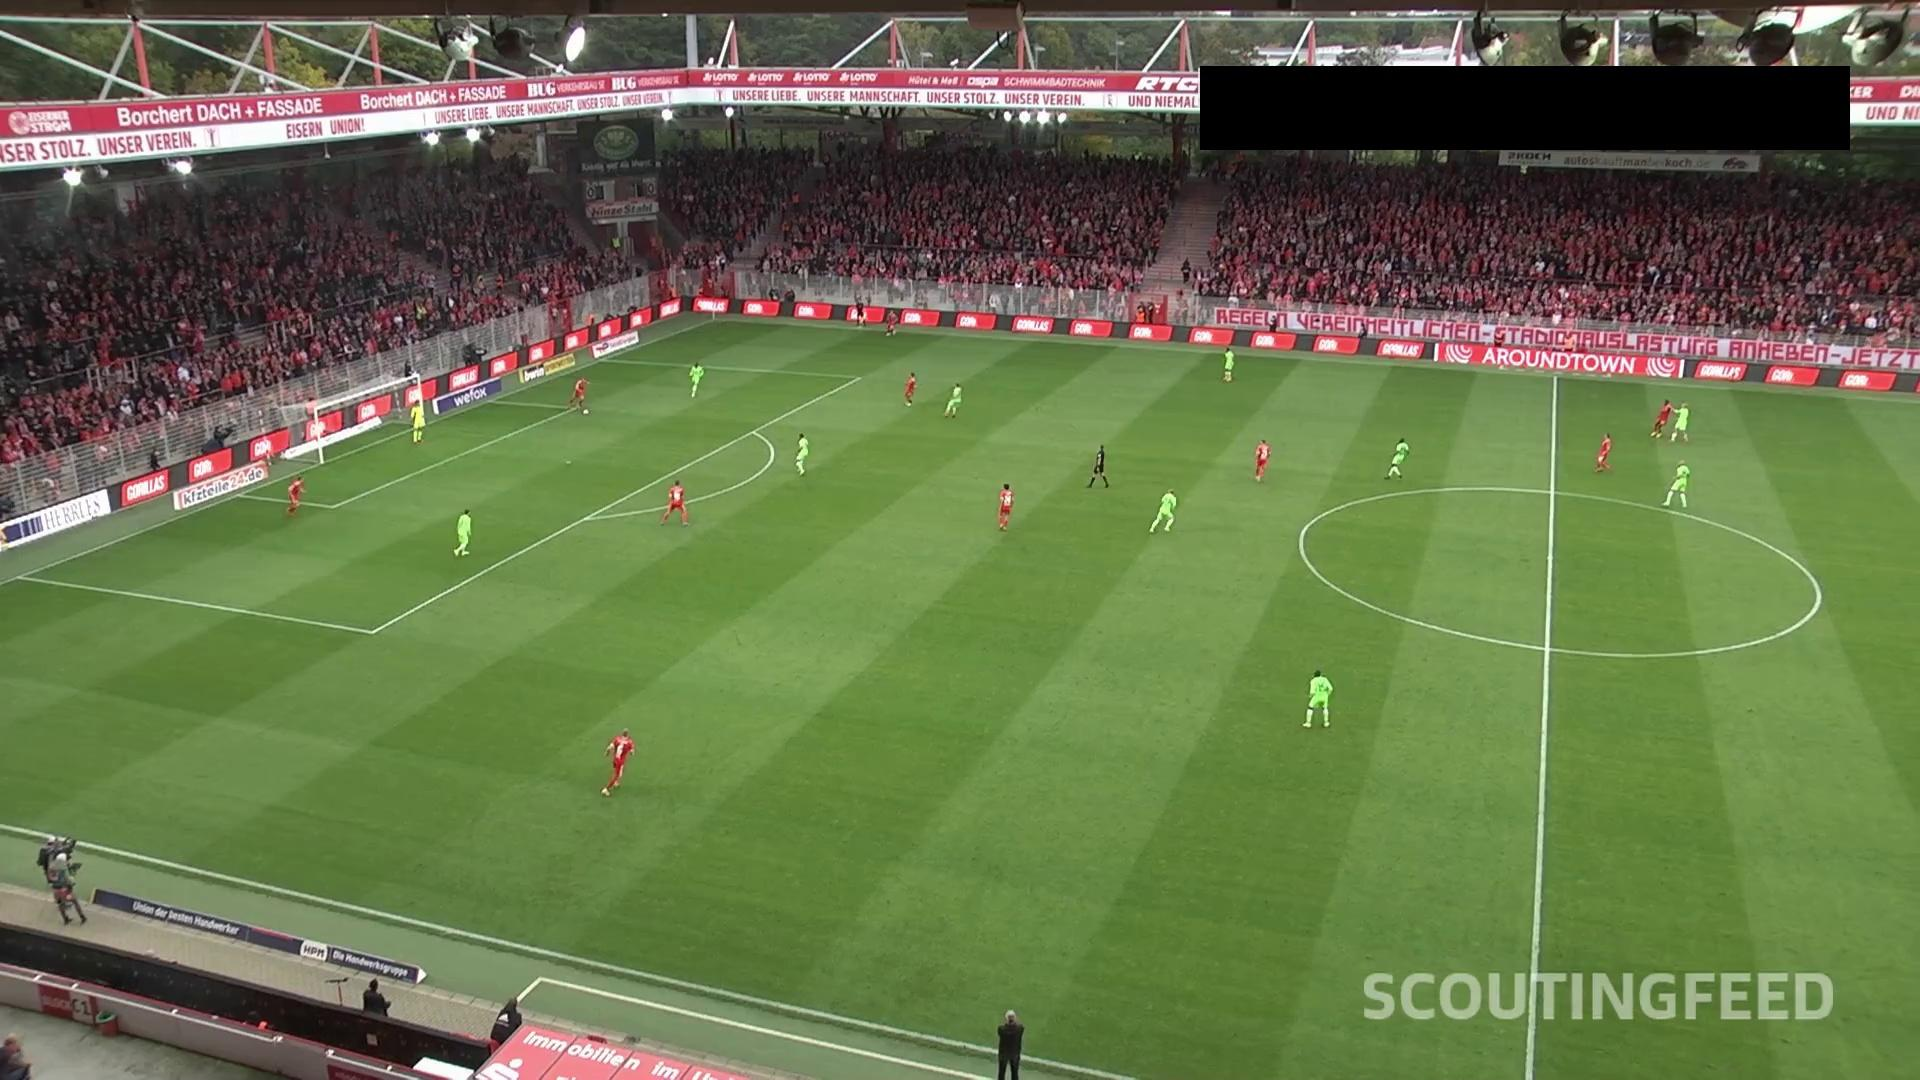Location-of-ball: (572, 402, 600, 431)
